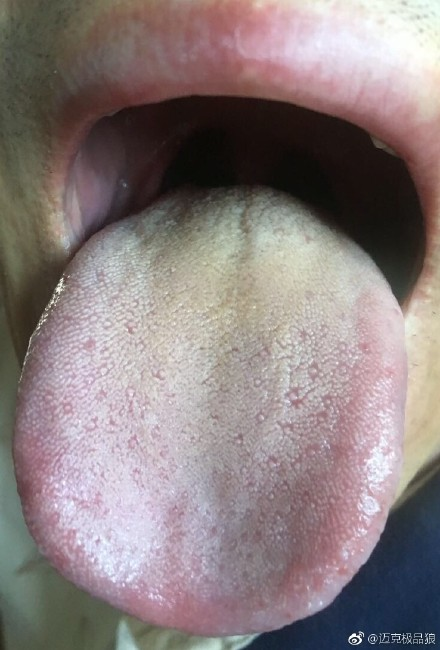huangtaishe: (13, 182, 408, 637)
